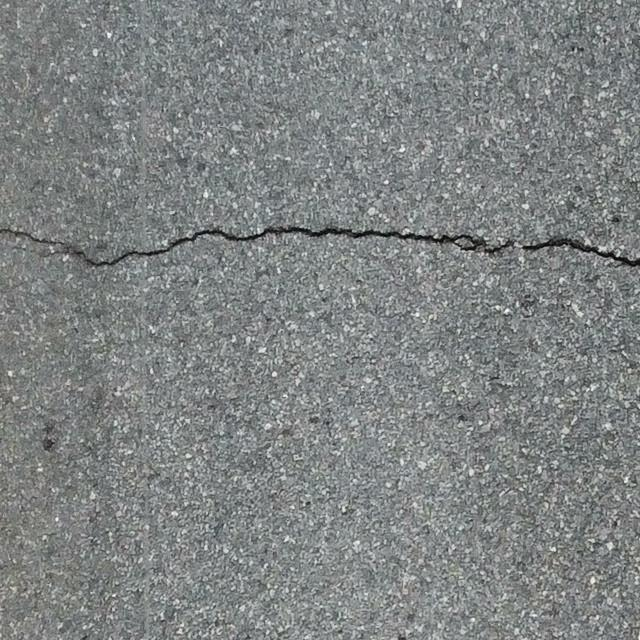TransverseCrack: (1, 227, 640, 266)
